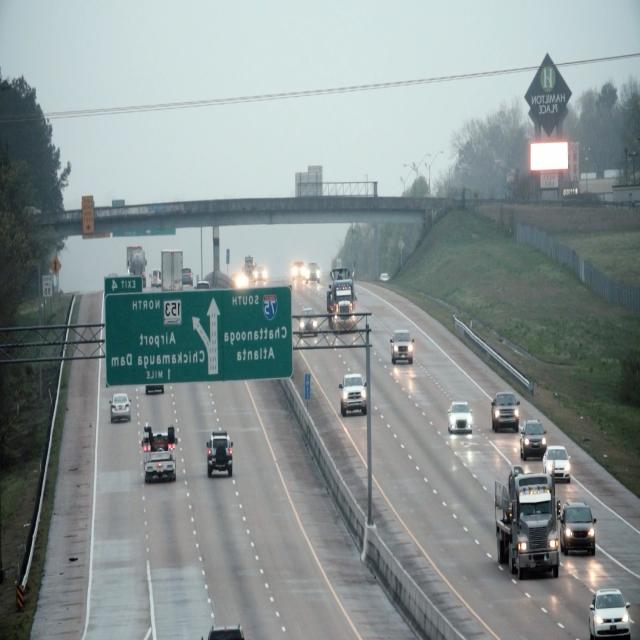Car: (490, 467, 563, 586), (589, 584, 630, 640), (140, 424, 177, 486), (325, 267, 358, 333), (561, 500, 595, 559), (490, 389, 520, 433), (336, 376, 369, 416), (445, 396, 475, 439), (206, 432, 232, 477), (519, 419, 546, 460), (388, 328, 414, 365), (545, 445, 569, 483), (110, 390, 131, 425), (297, 306, 318, 339)
